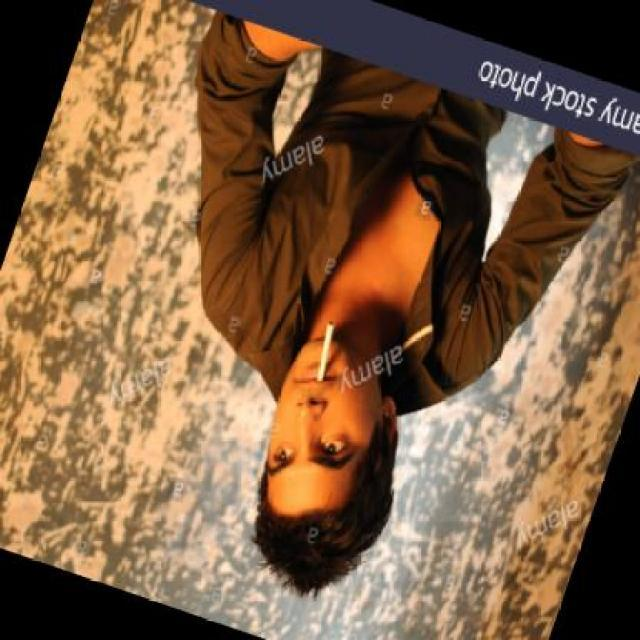smoke: (305, 314, 344, 382)
